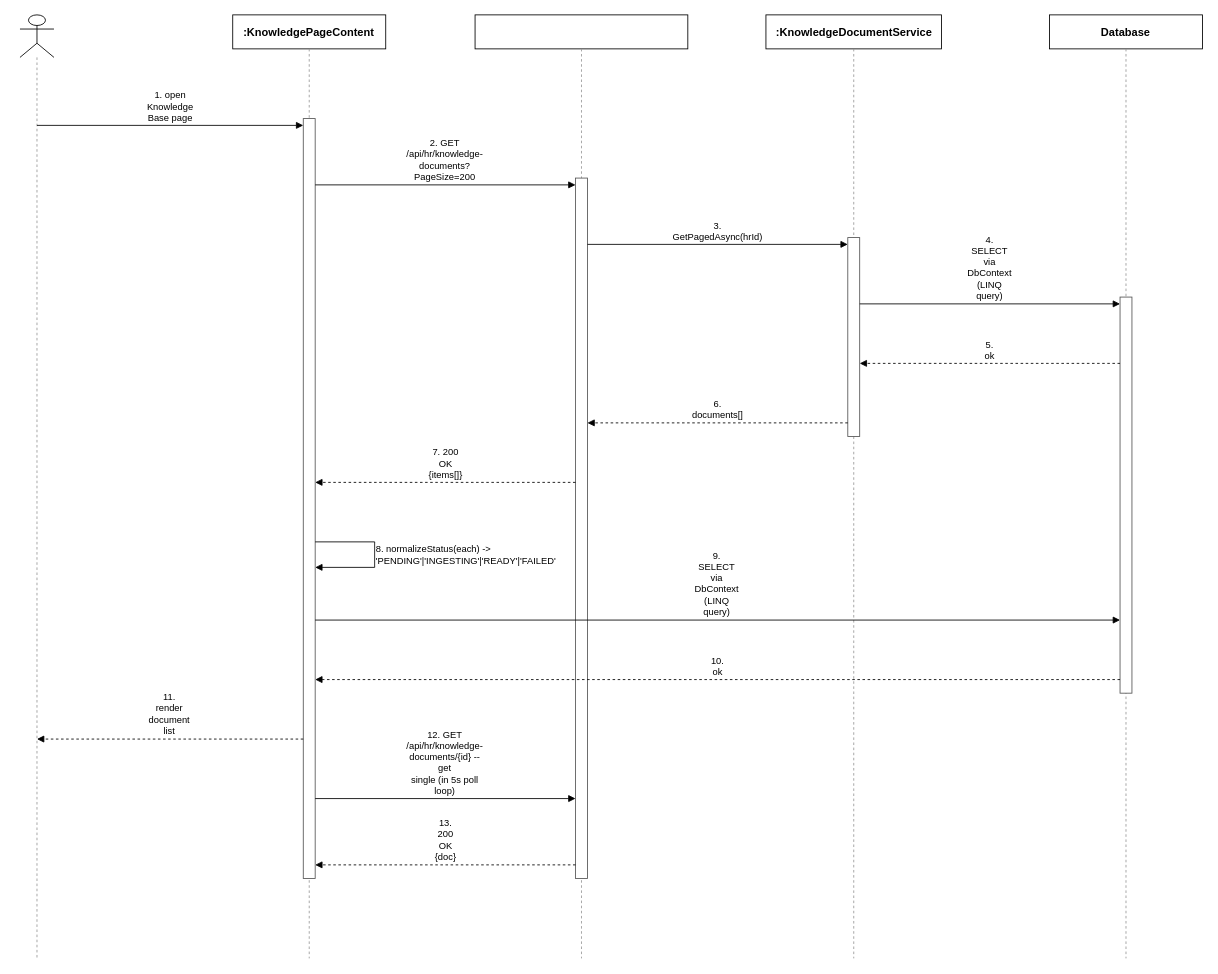
Some shapes in this 1218 by 974 pixel diagram are drawn without their labels. Here are the shapes that lost their labels. From the top down, the centre of each, then its label:
At point 36,35: "HR Manager".
At point 581,31: ":HrKnowledgeDocumentsController".
